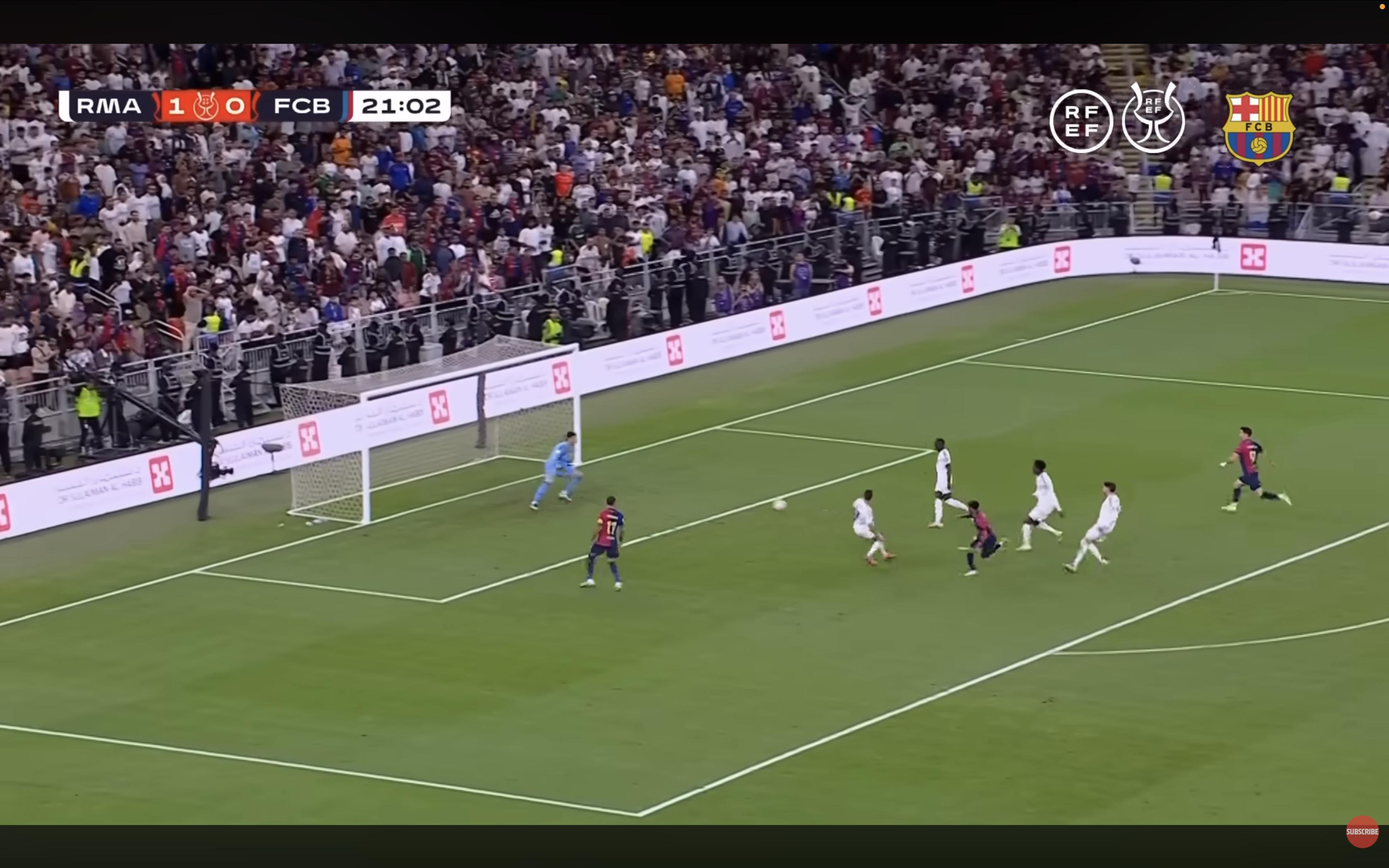ball: (772, 499, 786, 511)
goalkeeper: (530, 432, 582, 510)
player: (1221, 427, 1291, 512), (1064, 482, 1121, 572), (1017, 459, 1063, 550), (580, 496, 624, 590), (928, 438, 968, 528), (960, 501, 1007, 576), (854, 489, 895, 565)
